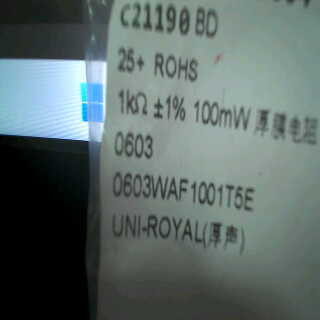1kR: (116, 84, 154, 123)
